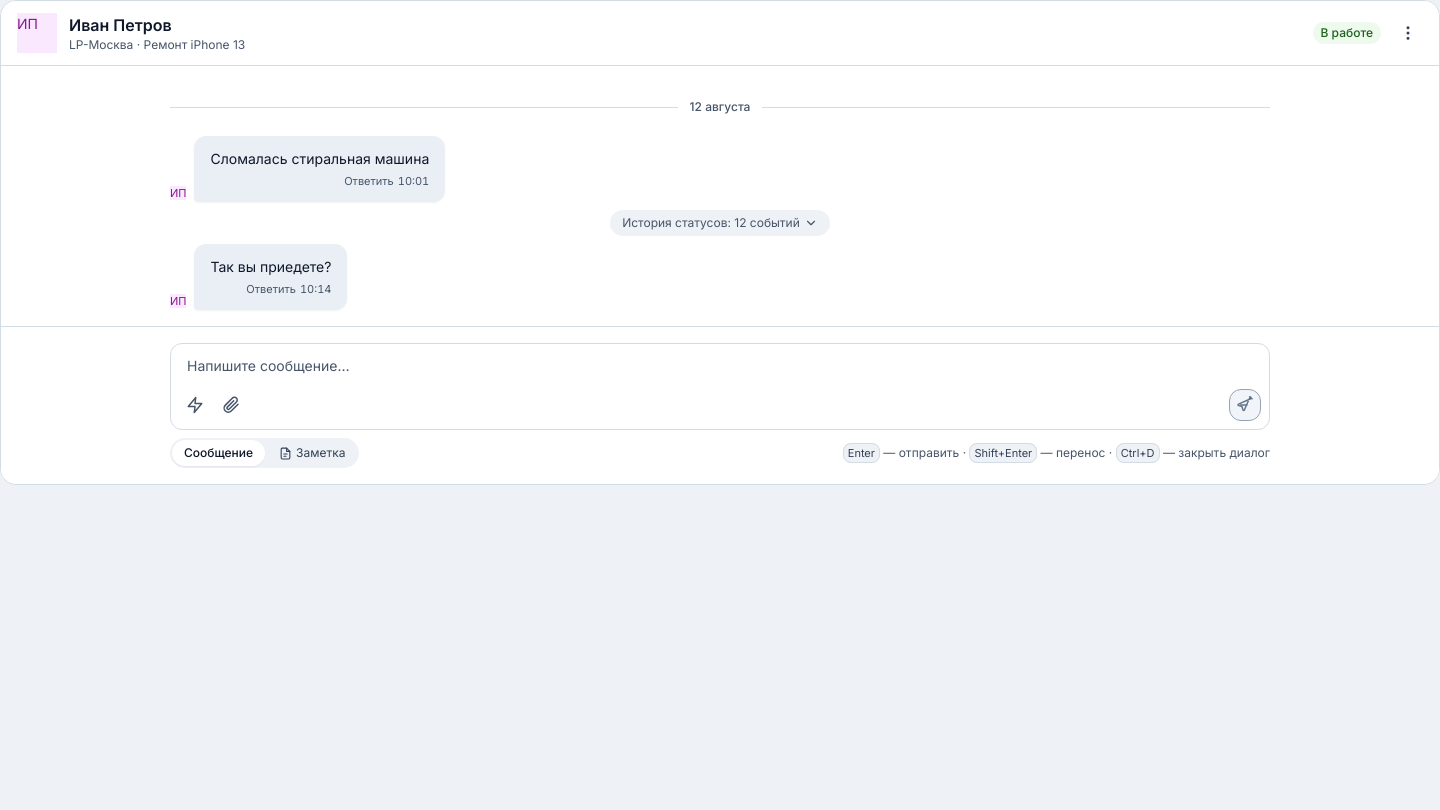
Test case: Лента — только переписка и свёрнутые группы событий › двенадцать служебных плашек схлопываются в одну строку с разворотом
This screenshot has width=1440, height=810.
Expected: the text "Сломалась стиральная машина" is shown, top-left (210, 148), bottom-right (429, 169)
Expected: the text "Так вы приедете?" is shown, top-left (210, 256), bottom-right (332, 277)
Click the button "История статусов: 12 событий" at coordinates (720, 223), box top-left (610, 210), bottom-right (830, 236)
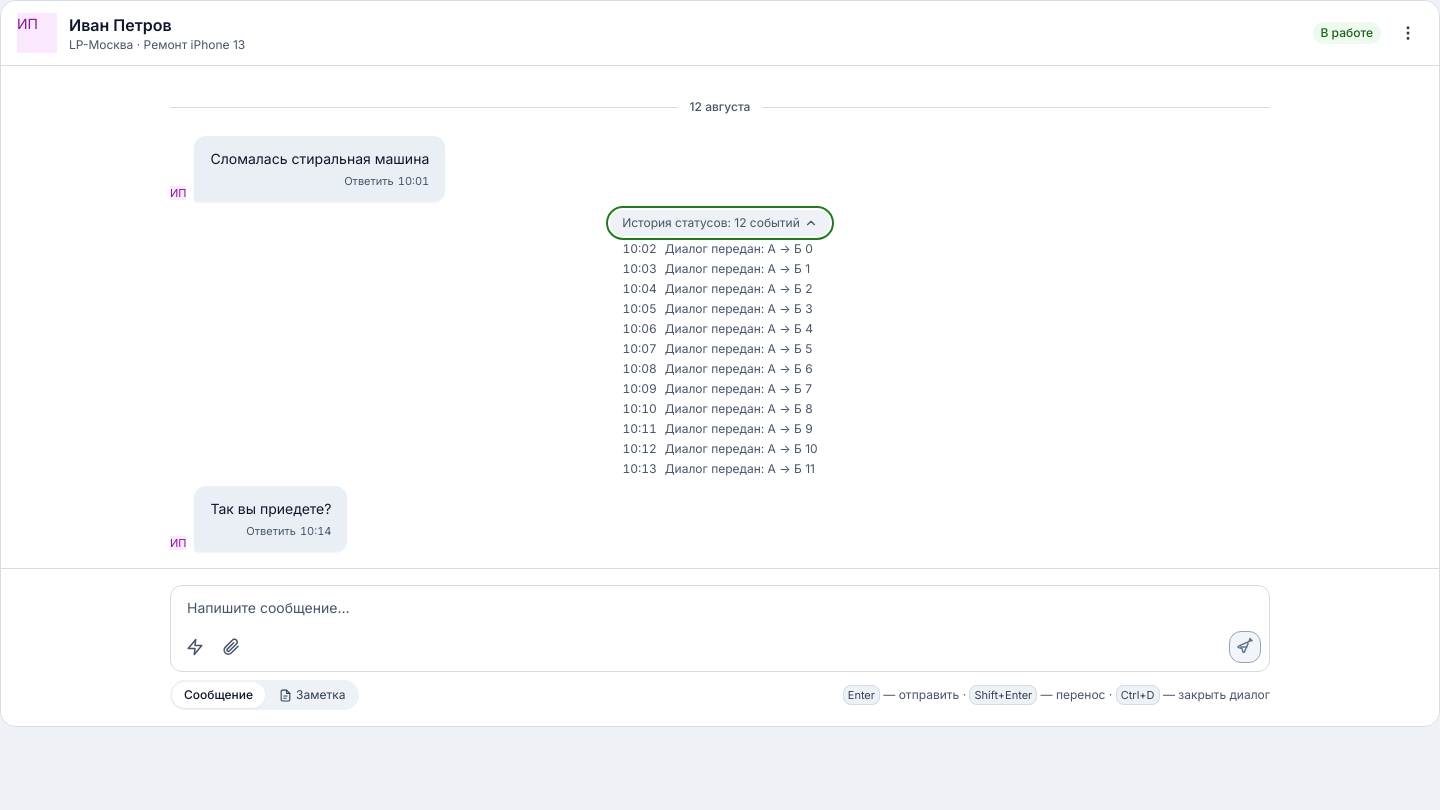
Result: the text "Диалог передан: А → Б 0" is shown at top-left (665, 240), bottom-right (813, 258)
Result: the text "Диалог передан: А → Б 11" is shown at top-left (665, 460), bottom-right (815, 478)
